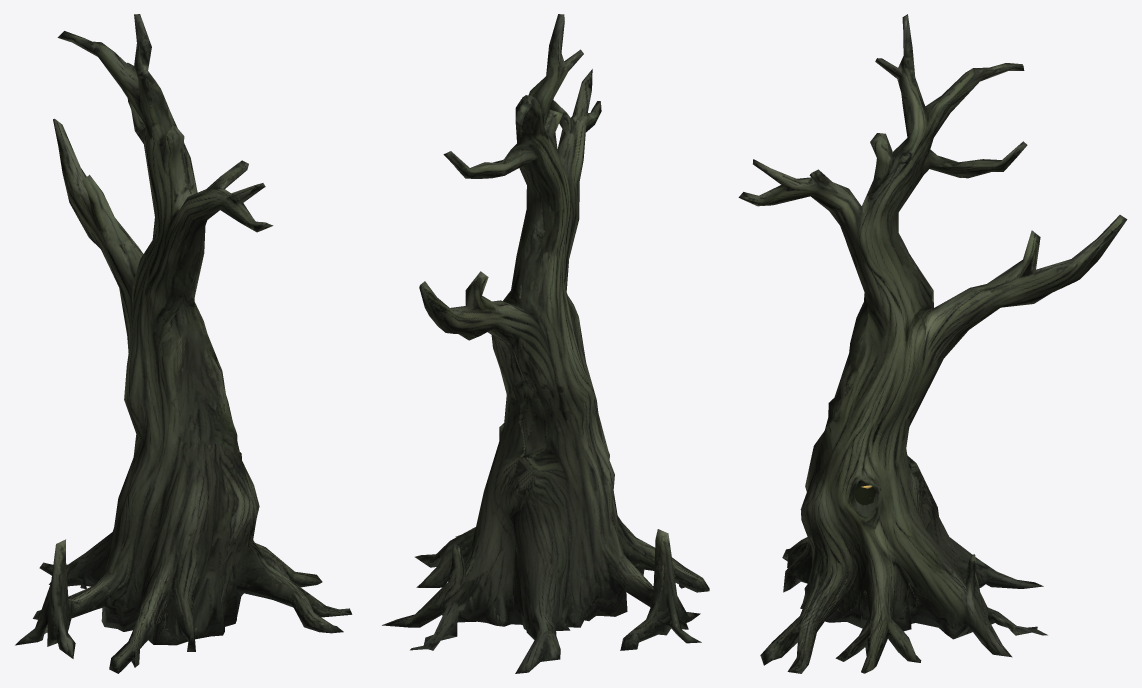
The model's file is Mud_Tree_007.fbx.
The picture shows the model from 3 angles, left to right: view 1: azimuth 30°, elevation 25°; view 2: azimuth 150°, elevation 25°; view 3: azimuth 270°, elevation 25°; orthographic projection. The views are drawn at different scales.
Visible parts, largest first — view 1: Mud_Tree_007_LOD0; view 2: Mud_Tree_007_LOD0; view 3: Mud_Tree_007_LOD0.
Boxes of the visible parts, x1,y1,x2,y2 form: Mud_Tree_007_LOD0: (15, 14, 352, 673); Mud_Tree_007_LOD0: (382, 14, 709, 673); Mud_Tree_007_LOD0: (738, 14, 1127, 673).
Size of what is drawn, in the model's own units: 962 by 1874 by 1127.
Materials: 1 (1 with a texture image).
